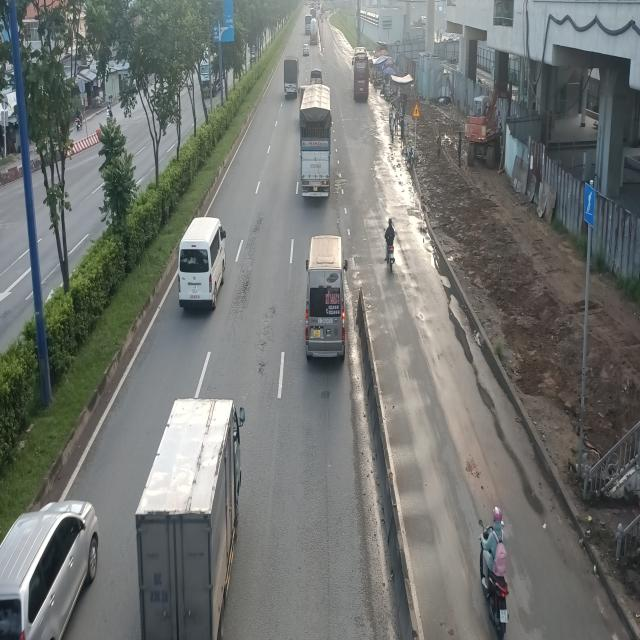car: (0, 499, 96, 639)
coach: (352, 48, 370, 99)
truck: (137, 393, 246, 639), (298, 82, 331, 198), (282, 56, 299, 100)
van: (303, 234, 346, 364), (176, 219, 228, 314)
